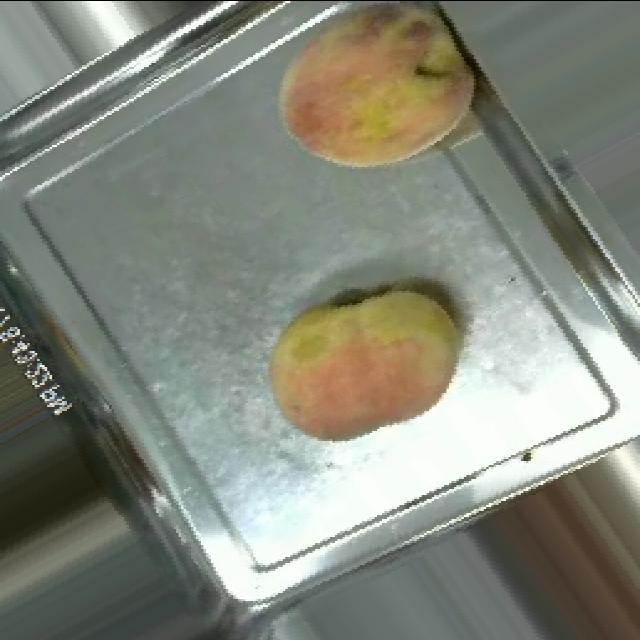Fruit: (241, 258, 481, 464), (248, 0, 501, 194), (466, 430, 640, 640)
